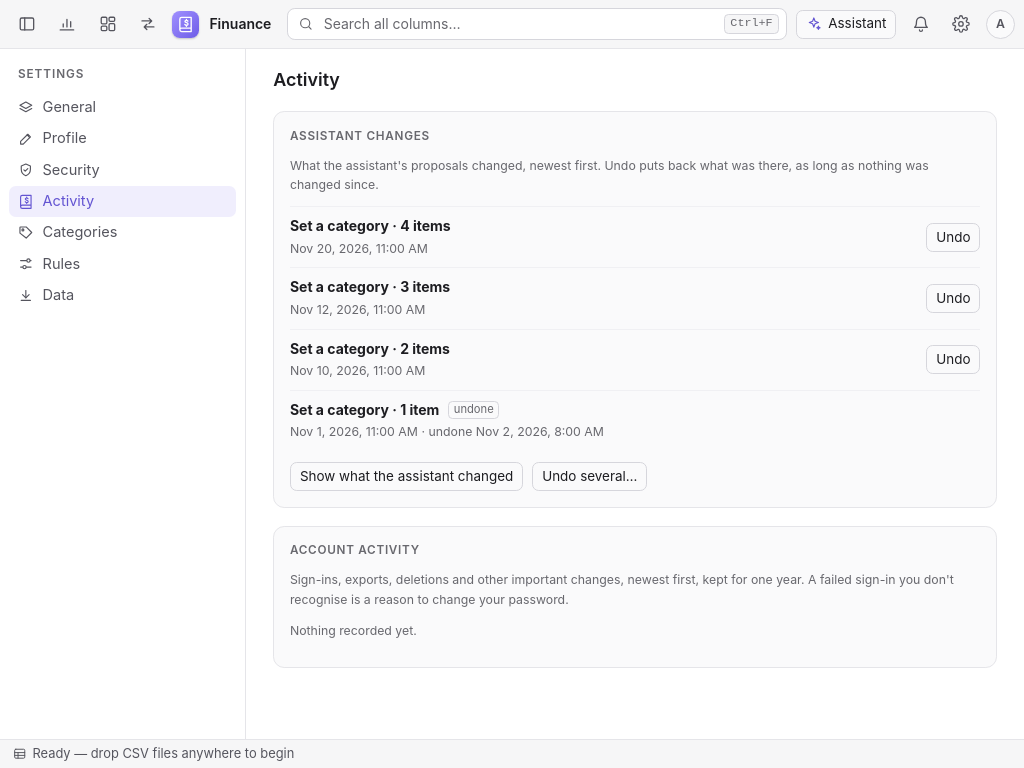
Test: activity › undoes several of the assistant’s changes: a period or all, leaving what was changed since (Phase 27)
Expected: the list named "Assistant changes" is shown, [290,206,980,451]
Click the button "Undo several…": (590, 477) [532,462,647,491]
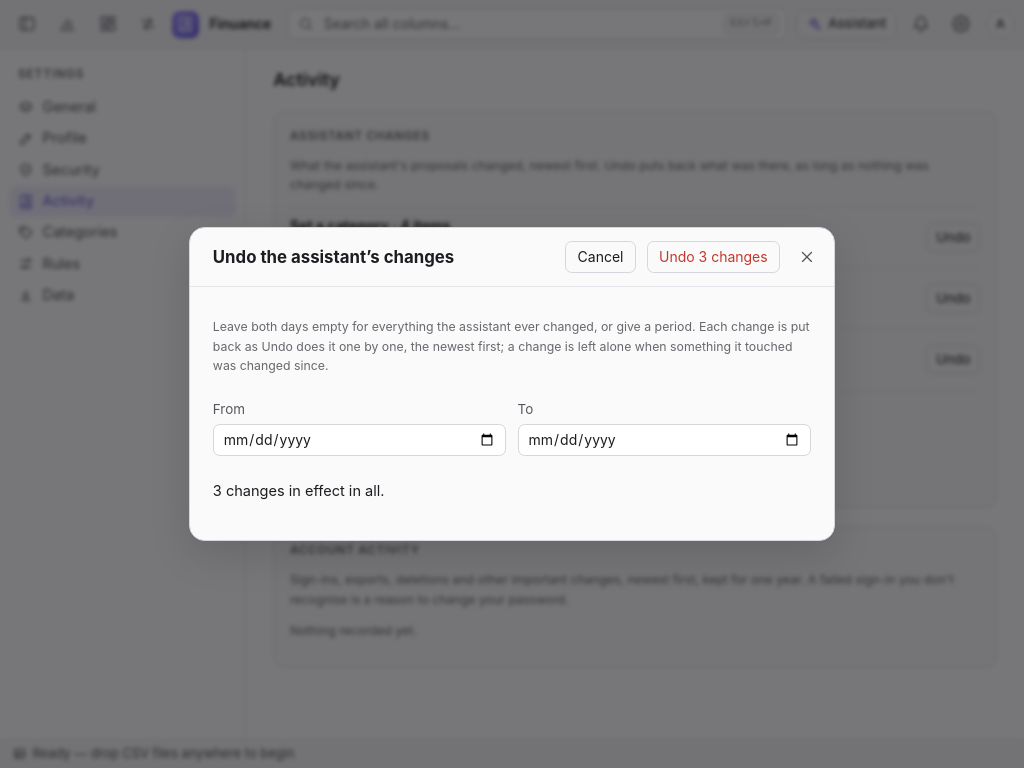
Result: the text "3 changes in effect in all." is shown at [213,482,384,500]
# a period
In the date field labelled "From": (360, 440) [213,424,506,456], type "2026-11-10"
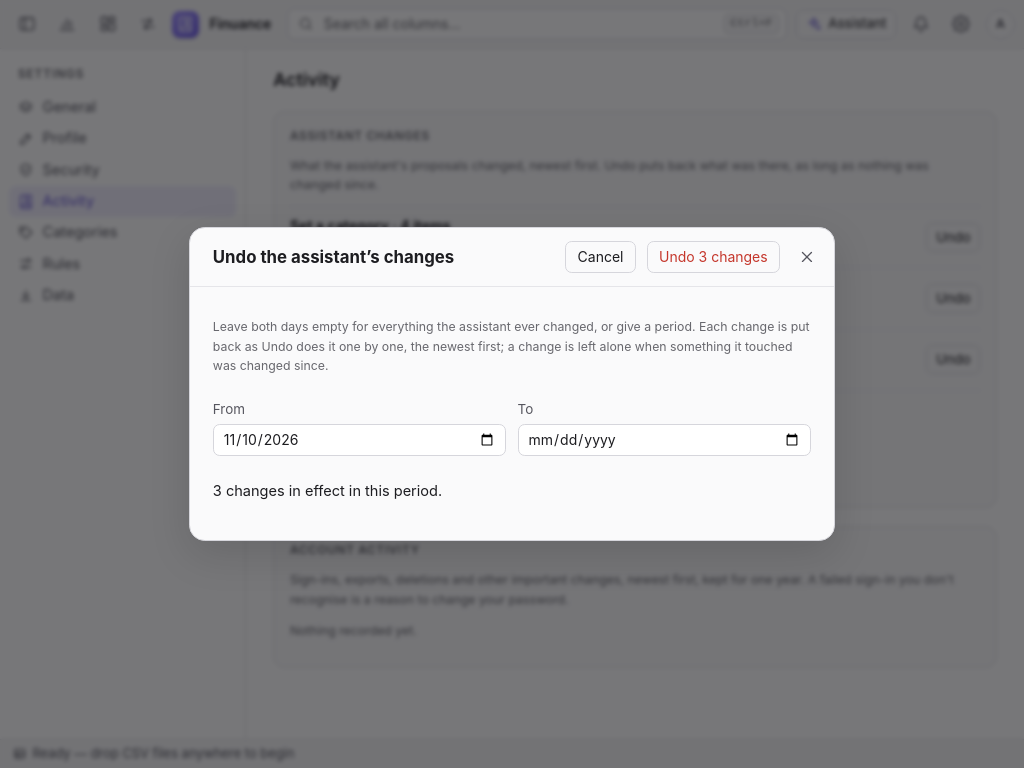
In the date field labelled "To": (664, 440) [518,424,811,456], type "2026-11-12"
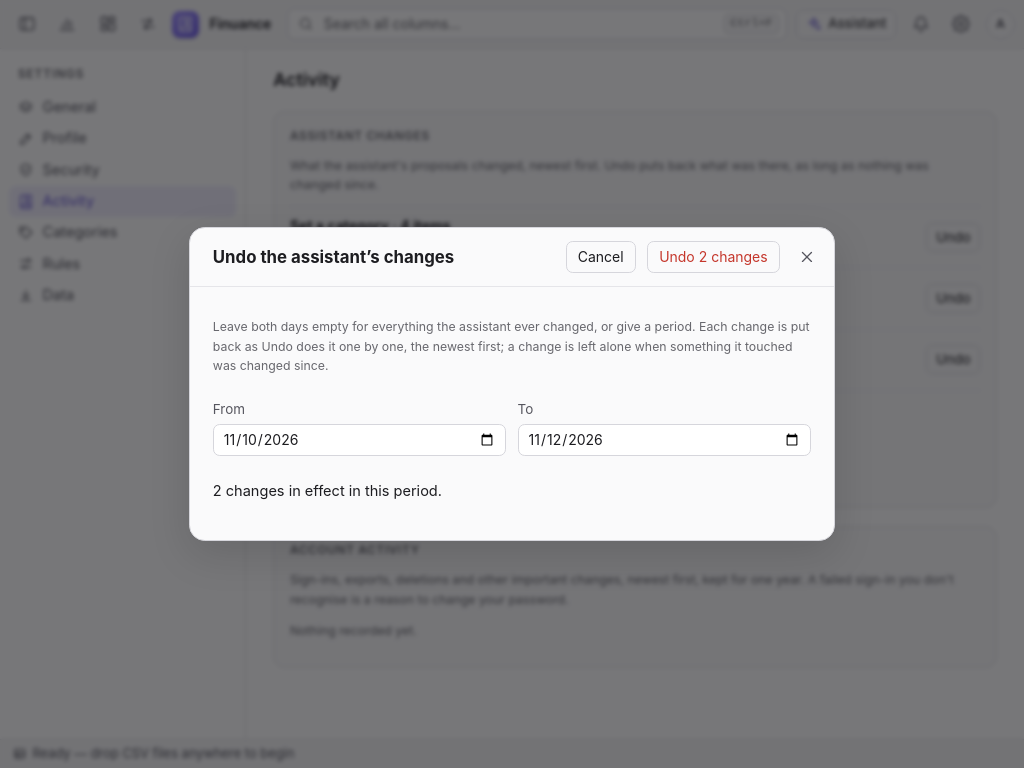
Result: the message reads "2 changes in effect in this period." at [213,482,442,500]
In the date field labelled "To": (664, 440) [518,424,811,456], type "2026-11-09"
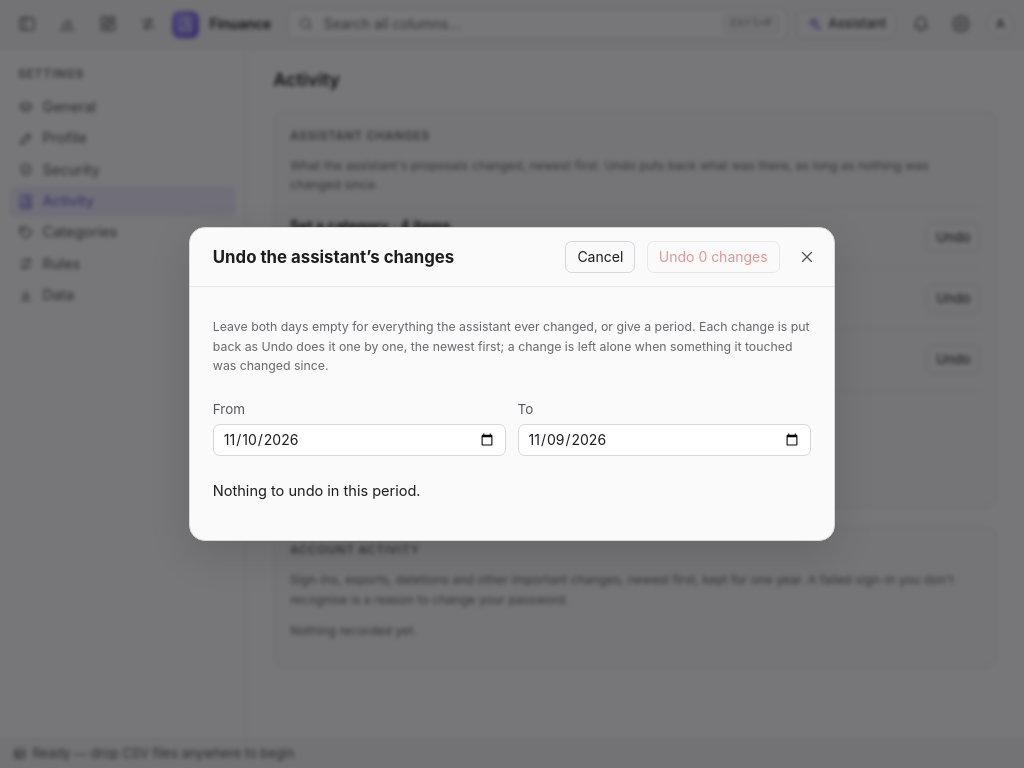
Result: the message reads "Nothing to undo in this period." at [213,482,420,500]
Result: the button "Undo 0 changes" is disabled at [647,241,780,273]
In the date field labelled "To": (664, 440) [518,424,811,456], type "2026-11-12"
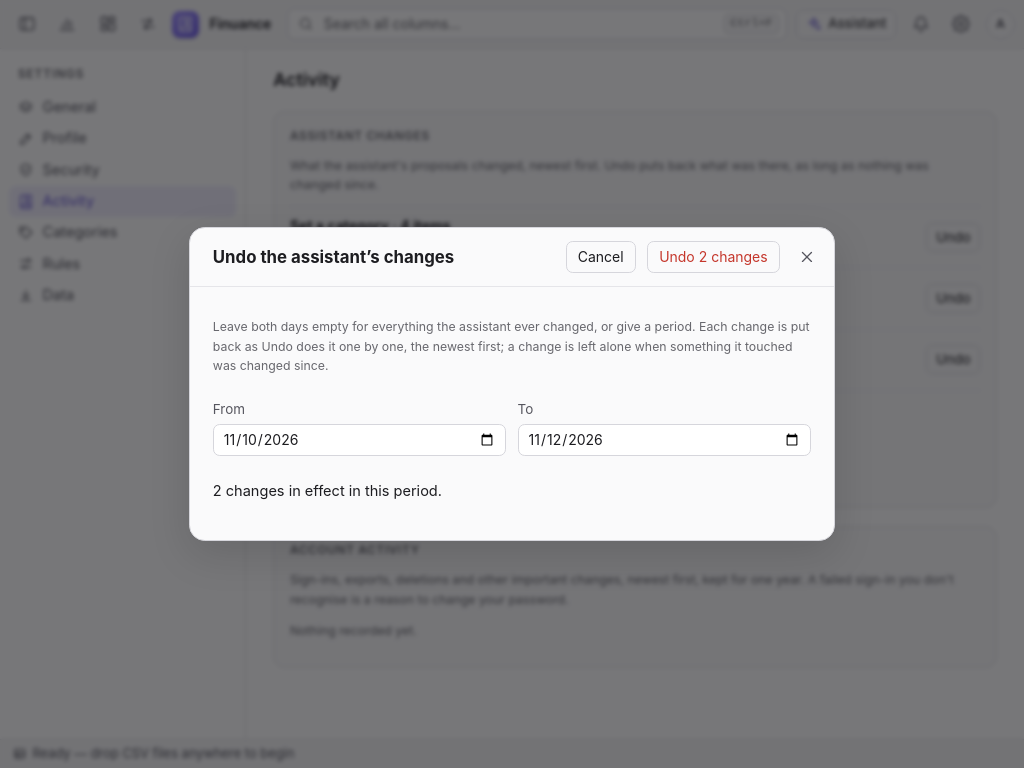
Click the button "Undo 2 changes": (713, 257) [647,241,780,273]
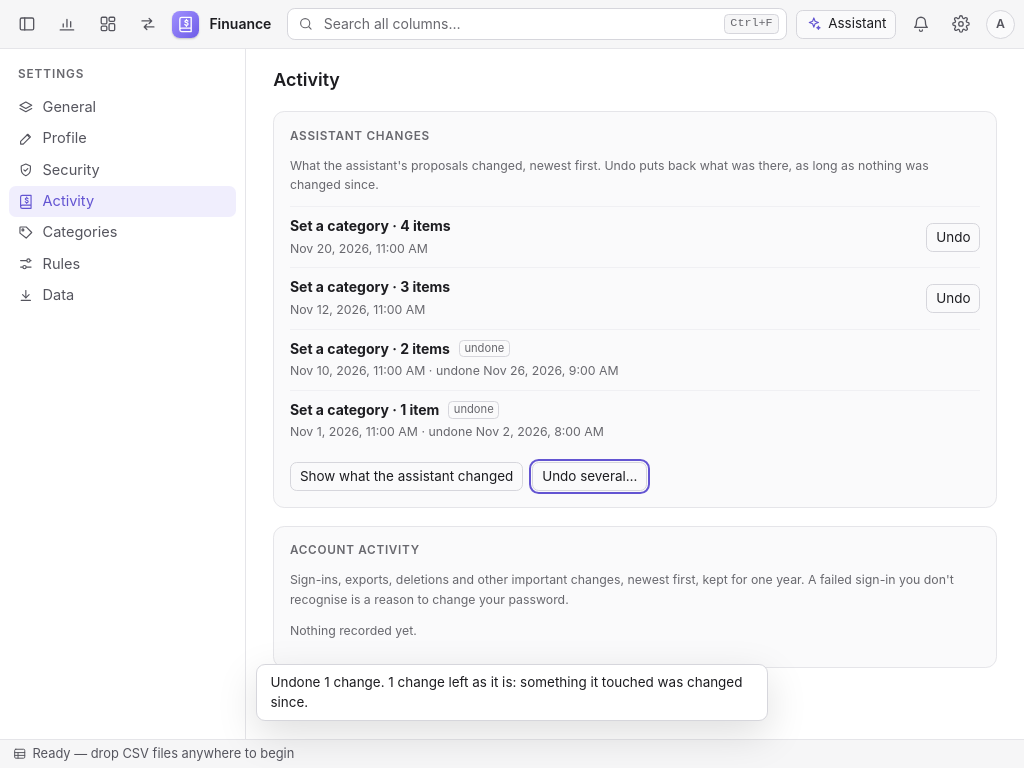
Result: the text "Undone 1 change. 1 change left as it is: something it touched was changed since." is shown at [256,664,768,721]
Result: the text "Undo the assistant’s changes" is gone
